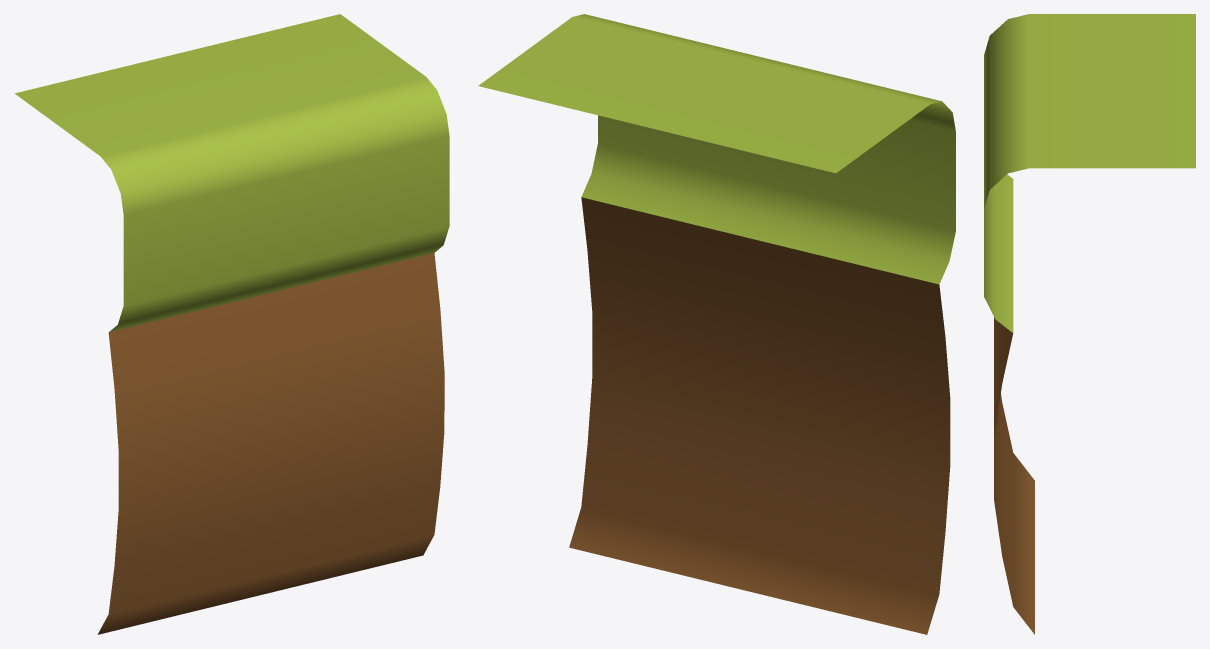
The model's file is Borda.fbx.
3 views of the same model, side by side, from view 1: azimuth 30°, elevation 25°; view 2: azimuth 150°, elevation 25°; view 3: azimuth 270°, elevation 25° (orthographic). The views are drawn at different scales.
Visible parts, largest first — view 1: borda1; view 2: borda1; view 3: borda1.
Boxes of the visible parts, bbox=[...] form: borda1: bbox=[14, 14, 449, 634]; borda1: bbox=[478, 14, 955, 634]; borda1: bbox=[984, 14, 1195, 634].
Size of the model in its own units: 100 by 141 by 58.01.
